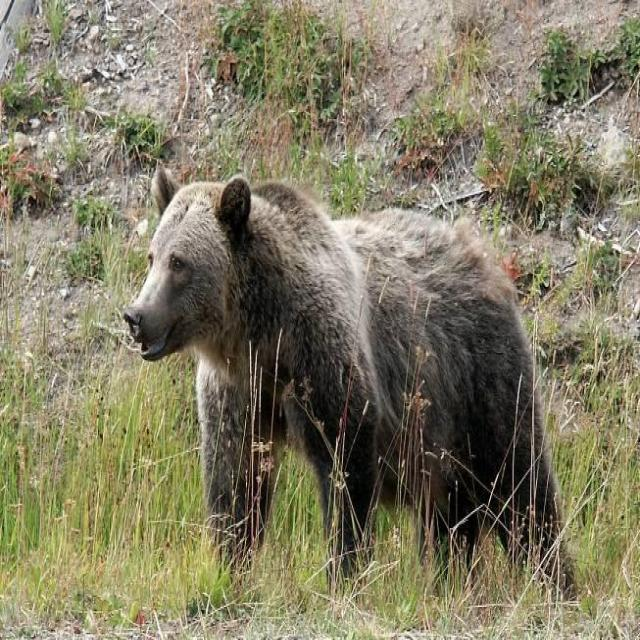Bear: (121, 178, 573, 591)
